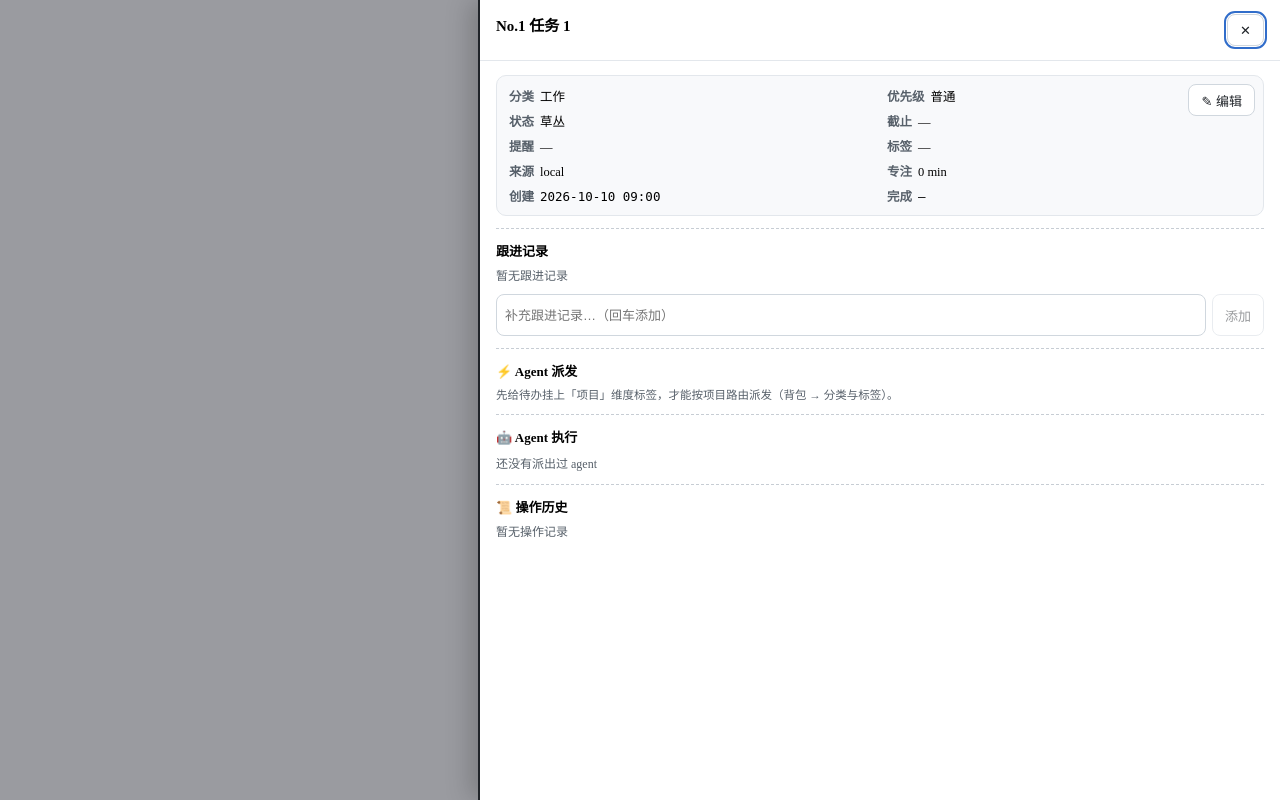
Test: 抽屉「编辑」入口（属性总览卡右上角） › 基础信息卡右上角编辑按钮打开全字段弹窗，保存走 taskUpdate 并刷新
This screenshot has width=1280, height=800.
Click the button "✎ 编辑" at (1222, 100), box [1188,84,1255,116]
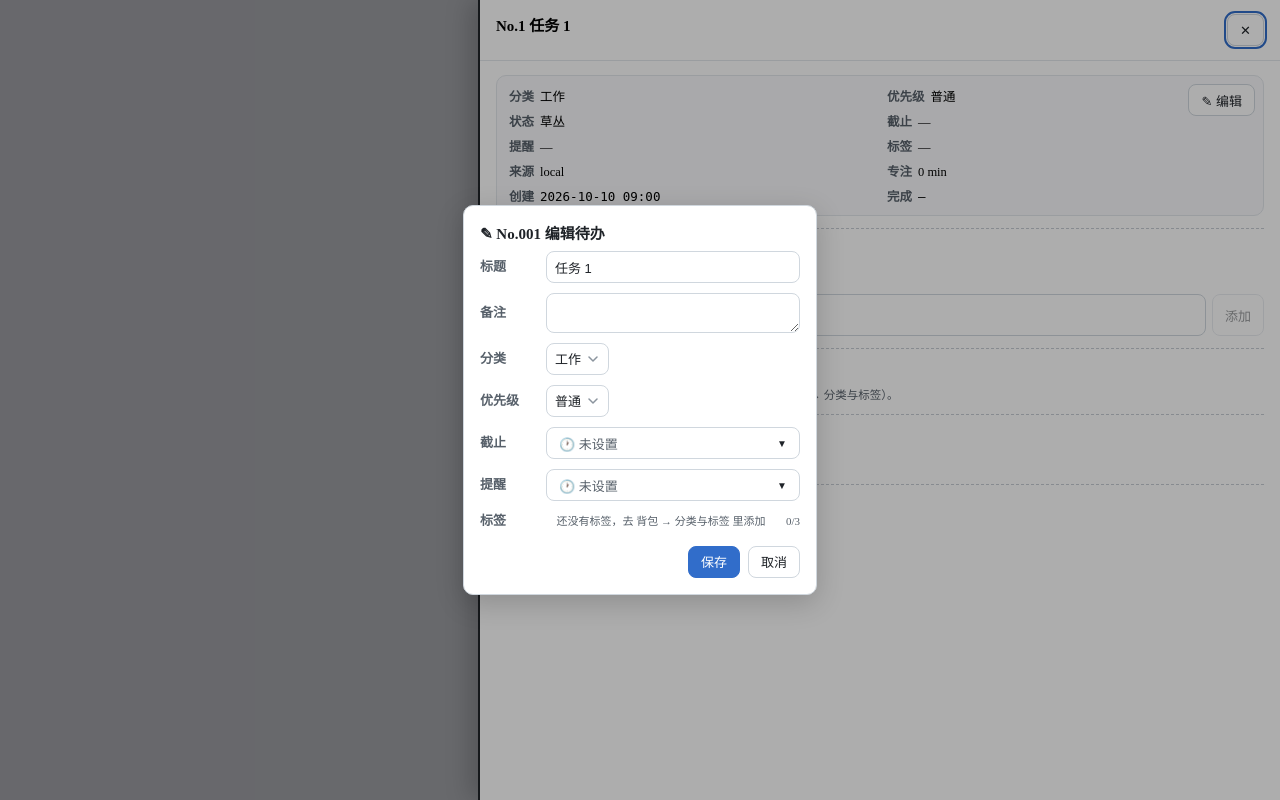
expect the heading "✎ No.001 编辑待办" is shown: met, box [480,226,605,242]
# 默认标题非空 → 保存直发全量 patch
Click the button "保存" at (714, 562), box [688,546,740,578]
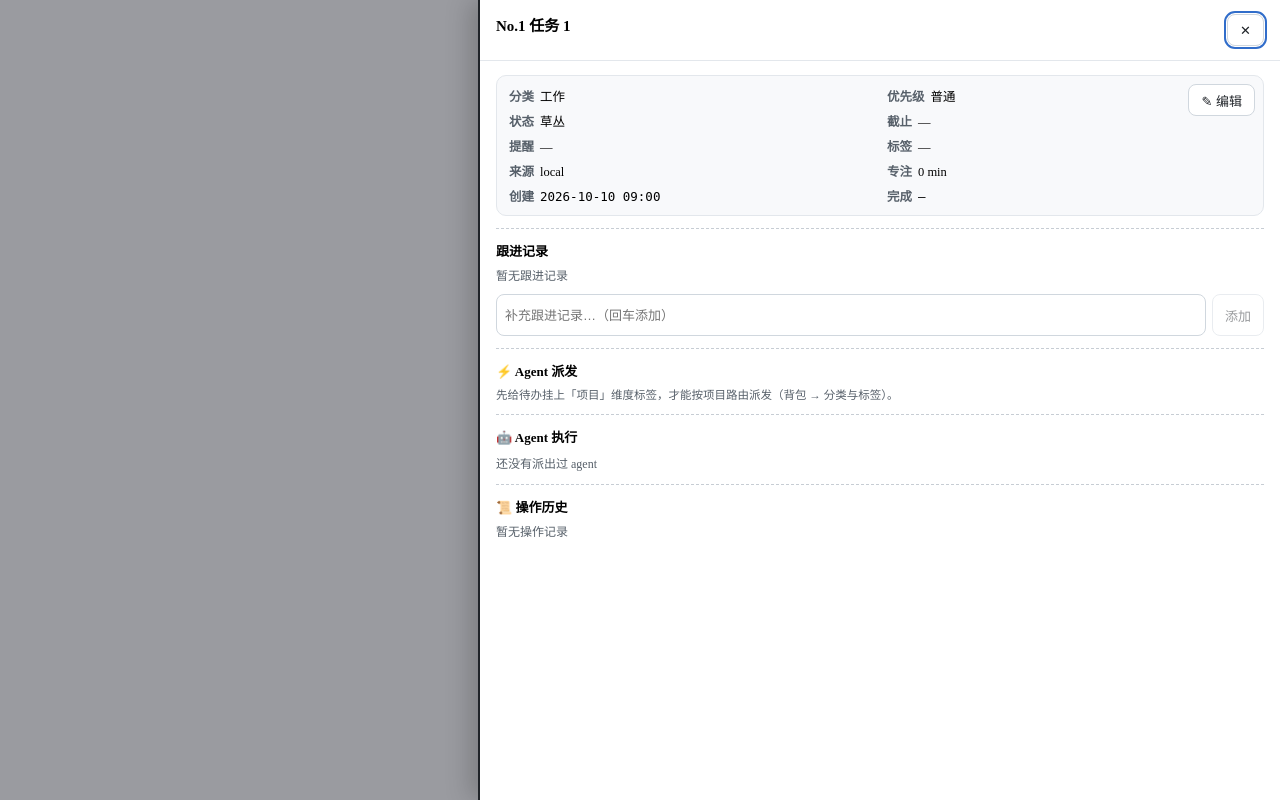
expect the heading "编辑待办" is gone: met
